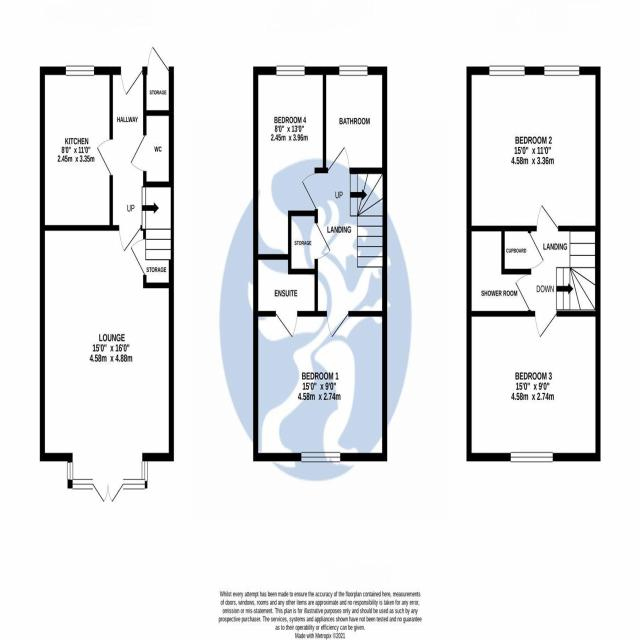DOOR: (324, 310, 354, 342), (298, 171, 319, 211), (117, 222, 143, 254), (274, 310, 300, 341), (120, 66, 145, 98), (326, 142, 351, 174), (129, 132, 147, 174), (535, 202, 561, 231), (95, 137, 113, 177)
DOUBLE DOOR: (92, 477, 124, 510)
ROOM: (40, 224, 175, 509), (467, 66, 601, 231), (465, 311, 601, 462), (253, 310, 387, 462), (253, 66, 326, 260), (40, 66, 112, 232)
WINDOW: (123, 460, 150, 490), (300, 449, 342, 466), (488, 63, 526, 78), (543, 63, 581, 77), (275, 62, 307, 78), (338, 62, 369, 77), (64, 65, 95, 77), (72, 478, 94, 490), (66, 460, 74, 481)
